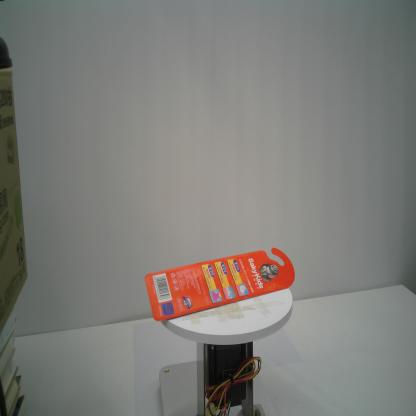Personal Hygiene: (144, 246, 296, 322)
